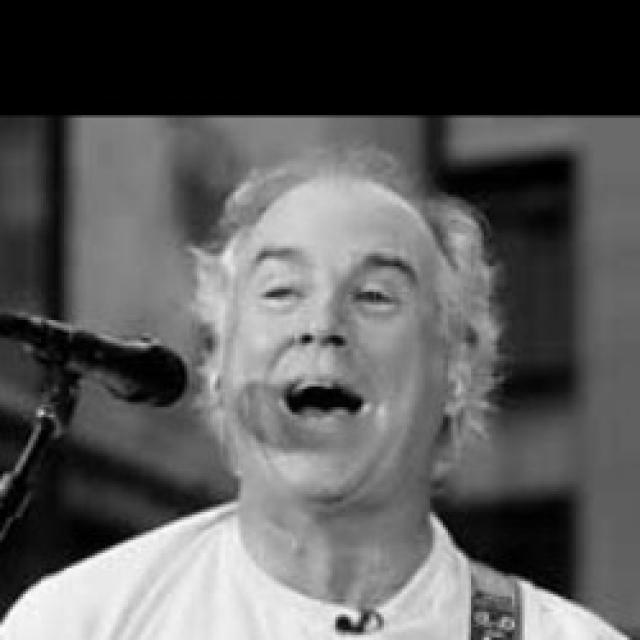real: (221, 174, 451, 514), (241, 268, 411, 332)
